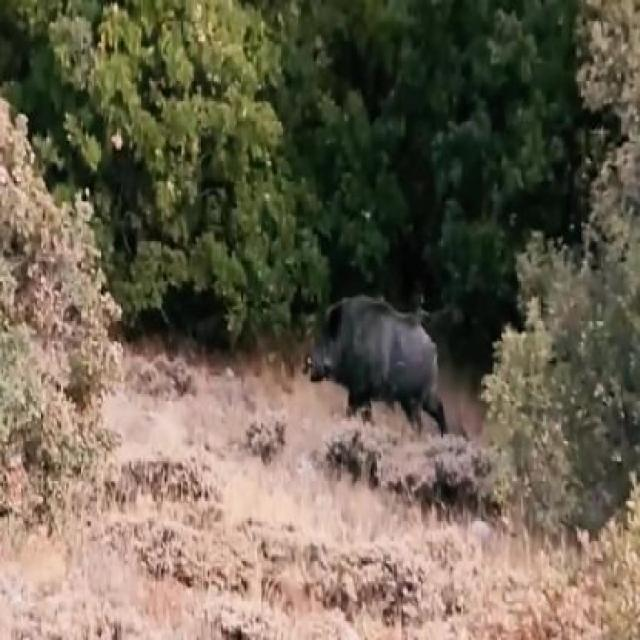pig: (311, 269, 442, 440)
